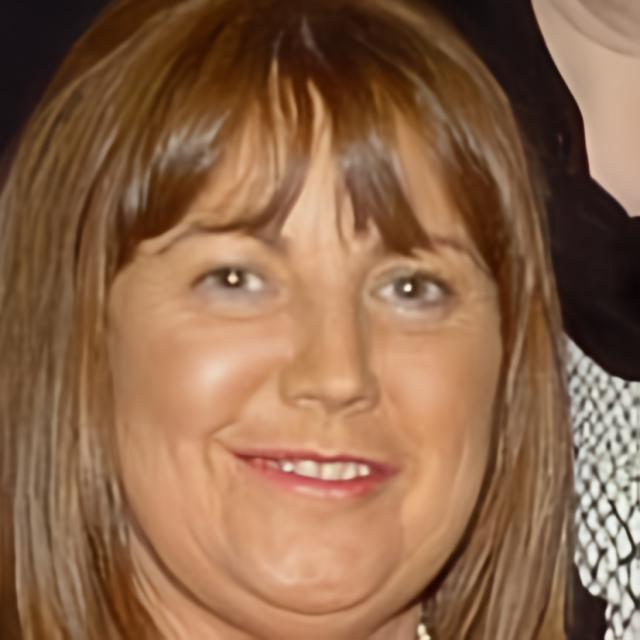happy: (109, 81, 506, 618)
